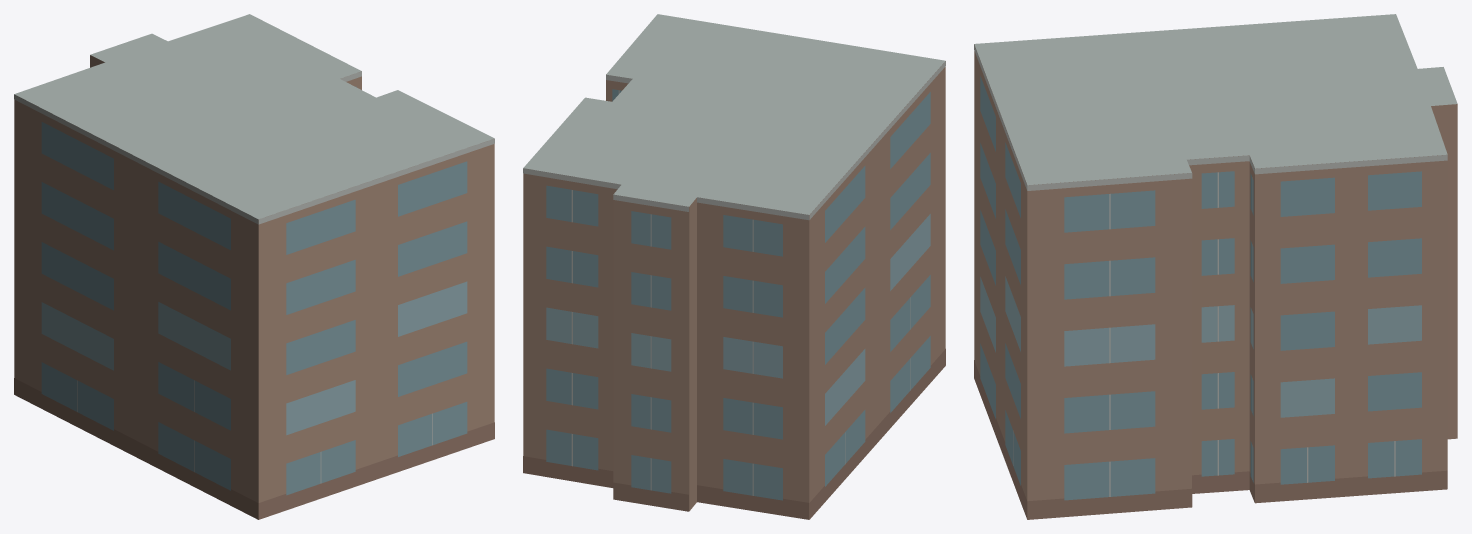
The model's file is survey-upis-32631815.glb.
The picture shows the model from 3 angles, left to right: view 1: azimuth 30°, elevation 25°; view 2: azimuth 150°, elevation 25°; view 3: azimuth 270°, elevation 25°; orthographic projection. The views are drawn at different scales.
Parts seen in each view (by area): view 1: survey-upis-32631815.tmp; view 2: survey-upis-32631815.tmp; view 3: survey-upis-32631815.tmp.
Boxes of the visible parts, bbox=[...] form: survey-upis-32631815.tmp: bbox=[14, 14, 494, 519]; survey-upis-32631815.tmp: bbox=[523, 14, 945, 519]; survey-upis-32631815.tmp: bbox=[974, 14, 1457, 519].
Size of the model in its own units: 15.32 by 13.95 by 18.28.
